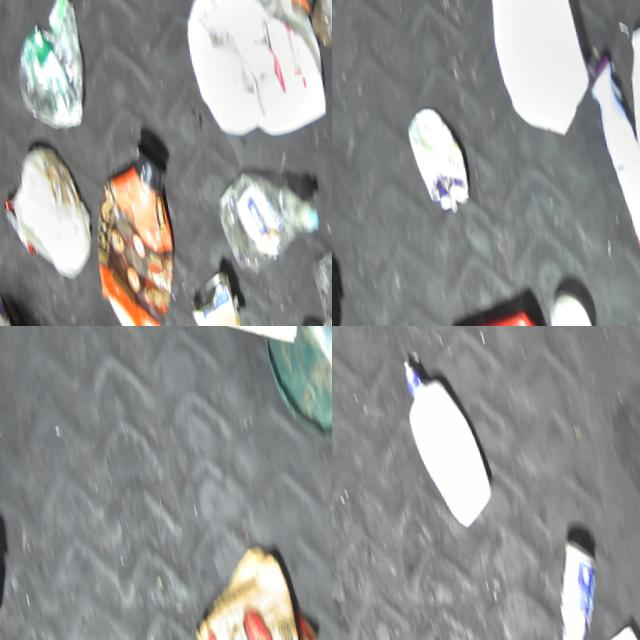can: (395, 104, 467, 213), (529, 532, 601, 640), (172, 267, 237, 326)
milk_jug: (169, 0, 328, 143), (465, 0, 593, 138), (390, 352, 488, 528), (604, 9, 640, 208)
non_white_jug: (62, 136, 189, 326)
plastic_bottle: (202, 164, 318, 275)
